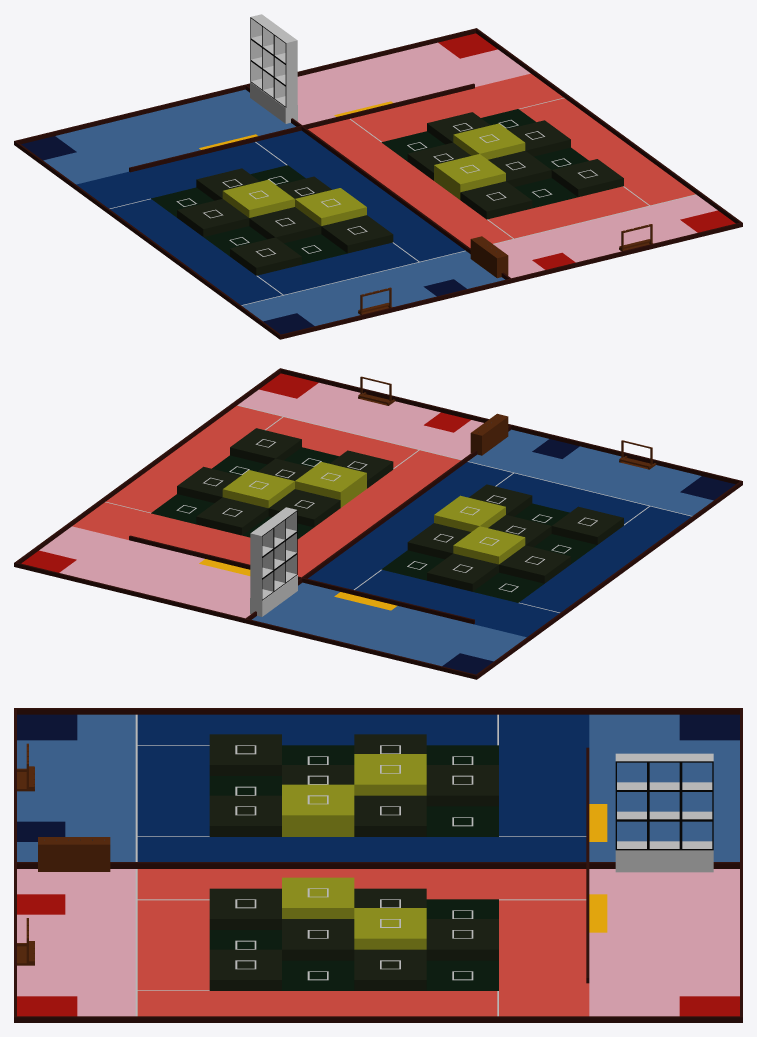
The model's file is nhk2026_field.obj.
The picture shows the model from 3 angles, top to bottom: view 1: azimuth 30°, elevation 25°; view 2: azimuth 150°, elevation 25°; view 3: azimuth 270°, elevation 25°; orthographic projection. The views are drawn at different scales.
Parts seen in each view (by area): view 1: cArenaBlue, cArenaR, aDojoB, aDojoR, bPathwayR1, bPathwayB1, WallB, bPathwayR3, bPathwayR4, bPathwayB3, WallR, bPathwayB4 (+35 smaller); view 2: cArenaBlue, cArenaR, aDojoB, aDojoR, WallB, bPathwayB1, bPathwayR1, bPathwayR3, bPathwayB3, bPathwayB4, WallR, bPathwayR4 (+36 smaller); view 3: cArenaR, cArenaBlue, aDojoR, aDojoB, bPathwayB1, bPathwayB4, bPathwayR1, bPathwayR4, WallR, bPathwayB3, bPathwayR3, WallB (+41 smaller).
Boxes of the visible parts, x1,y1,x2,y2 form: cArenaBlue: (43, 89, 295, 184); cArenaR: (297, 42, 530, 125); aDojoB: (242, 251, 504, 325); aDojoR: (493, 195, 717, 278); bPathwayR1: (308, 119, 512, 247); bPathwayB1: (256, 130, 464, 261); WallB: (14, 84, 511, 339); bPathwayR3: (519, 98, 695, 205); bPathwayR4: (351, 73, 563, 141); bPathwayB3: (110, 199, 282, 305); WallR: (246, 28, 742, 282); bPathwayB4: (76, 142, 286, 208); cArenaBlue: (252, 582, 526, 666); cArenaR: (39, 526, 250, 618); aDojoB: (468, 429, 713, 515); aDojoR: (238, 382, 483, 459); WallB: (245, 424, 742, 679); bPathwayB1: (308, 462, 512, 589); bPathwayR1: (297, 450, 460, 577); bPathwayR3: (106, 405, 282, 512); bPathwayB3: (519, 506, 691, 612); bPathwayB4: (355, 570, 559, 637); WallR: (14, 368, 510, 623); bPathwayR4: (72, 502, 250, 564); cArenaR: (589, 869, 739, 1016); cArenaBlue: (589, 714, 739, 861); aDojoR: (17, 869, 135, 1016); aDojoB: (17, 714, 135, 861); bPathwayB1: (137, 837, 586, 861); bPathwayB4: (499, 714, 589, 836); bPathwayR1: (137, 869, 586, 899); bPathwayR4: (499, 900, 589, 1016); WallR: (14, 862, 742, 1022); bPathwayB3: (137, 714, 497, 745); bPathwayR3: (137, 991, 497, 1016); WallB: (14, 708, 742, 862).
Size of the model in its own units: 12.15 by 2.03 by 12.1.
